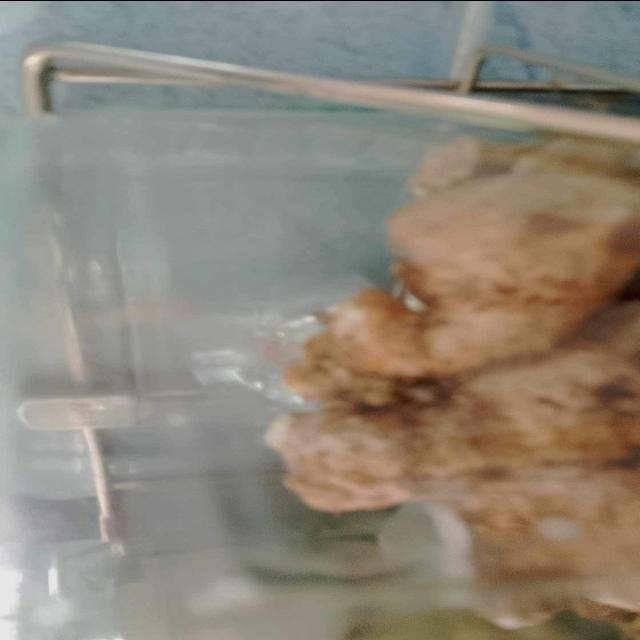General: (9, 31, 636, 634), (262, 132, 636, 626)
Sharps: (19, 39, 637, 142), (24, 163, 141, 636)
